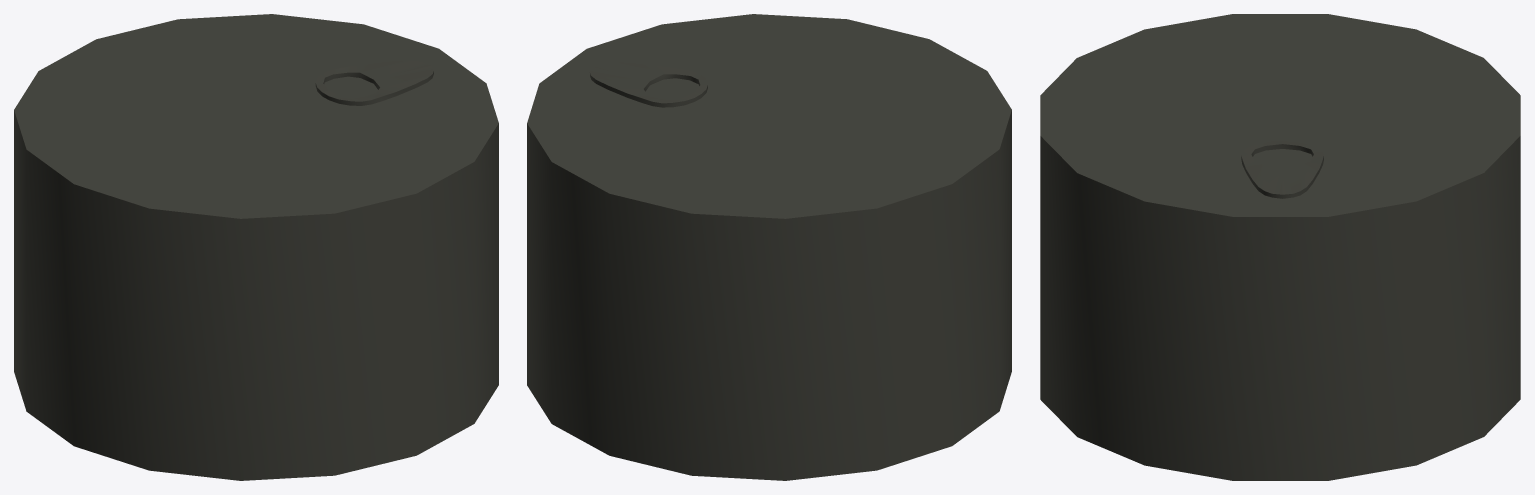
File: food_can_ration.dae
3 renders of one model, left to right at view 1: azimuth 30°, elevation 25°; view 2: azimuth 150°, elevation 25°; view 3: azimuth 270°, elevation 25°, orthographic.
Parts seen in each view (by area): view 1: food_can_fish; view 2: food_can_fish; view 3: food_can_fish.
Boxes of the visible parts, x1,y1,x2,y2 form: food_can_fish: (14, 14, 498, 480); food_can_fish: (527, 14, 1011, 480); food_can_fish: (1040, 14, 1520, 480).
Bounding box in the file's own units: 0.1315 × 0.0821 × 0.1315.
